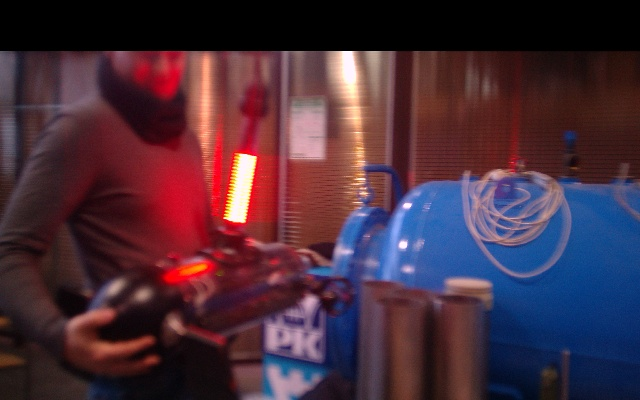red: (222, 152, 259, 226)
